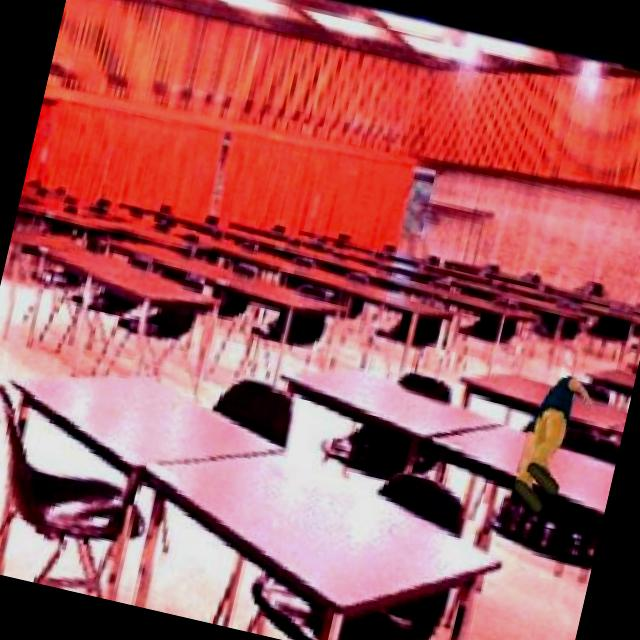Person: (502, 353, 607, 530)
